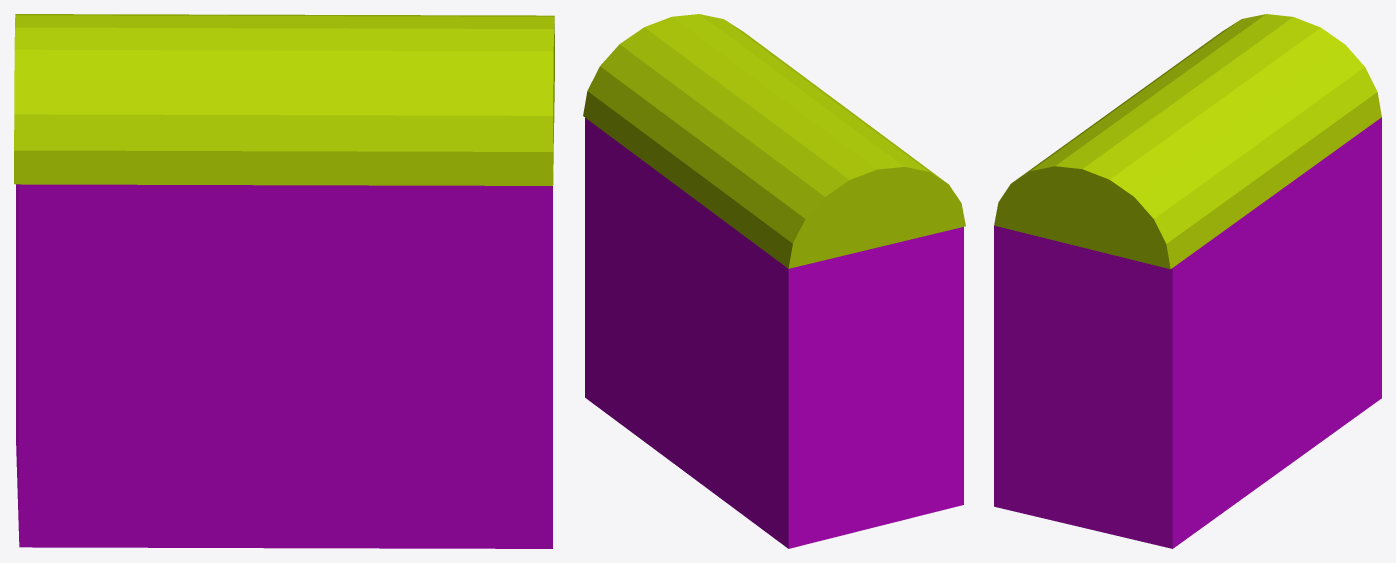
Rendered from bgj_146.glb.
The picture shows the model from 3 angles, left to right: view 1: azimuth 30°, elevation 25°; view 2: azimuth 150°, elevation 25°; view 3: azimuth 270°, elevation 25°; orthographic projection. The views are drawn at different scales.
Visible parts, largest first — view 1: bgj_146; view 2: bgj_146; view 3: bgj_146.
Boxes of the visible parts, x1,y1,x2,y2 form: bgj_146: [14, 14, 554, 548]; bgj_146: [583, 14, 965, 548]; bgj_146: [994, 14, 1381, 548].
Size of the model in its own units: 5.37 by 4.59 by 4.49.
